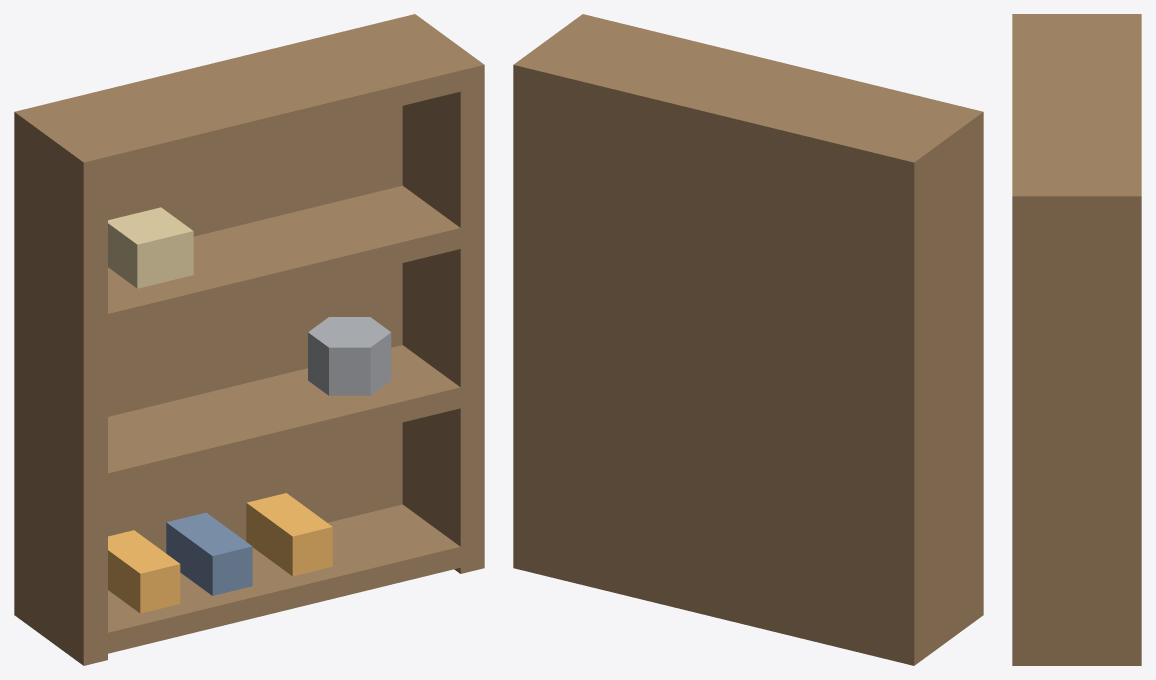
File: interior_shelf.glb
3 views of the same model, side by side, from view 1: azimuth 30°, elevation 25°; view 2: azimuth 150°, elevation 25°; view 3: azimuth 270°, elevation 25° (orthographic). The views are drawn at different scales.
Visible parts, largest first — view 1: back.001, side, side.001, top.001, shelf_42, shelf_80, shelf_4, pot, jar, book_2, book_1, book_0; view 2: back.001, side, top.001, side.001, shelf_4, shelf_42, shelf_80; view 3: side.001, top.001, back.001, side.
Boxes of the visible parts, <box> form: back.001: <box>14,14,422,623</box>; side: <box>14,106,107,665</box>; side.001: <box>392,14,484,573</box>; top.001: <box>14,28,484,182</box>; shelf_42: <box>95,345,472,496</box>; shelf_80: <box>99,185,472,336</box>; shelf_4: <box>95,504,472,654</box>; pot: <box>308,317,391,395</box>; jar: <box>108,207,193,288</box>; book_2: <box>246,493,332,576</box>; book_1: <box>166,512,252,595</box>; book_0: <box>108,530,180,613</box>; back.001: <box>513,56,925,665</box>; side: <box>890,106,983,665</box>; top.001: <box>513,20,983,182</box>; side.001: <box>513,14,606,573</box>; shelf_4: <box>525,544,902,656</box>; shelf_42: <box>525,384,902,497</box>; shelf_80: <box>525,225,902,337</box>; side.001: <box>1012,185,1141,665</box>; top.001: <box>1012,25,1141,215</box>; back.001: <box>1120,14,1141,665</box>; side: <box>1012,14,1141,24</box>.
Size of the model in its own units: 1 by 1.2 by 0.3.
